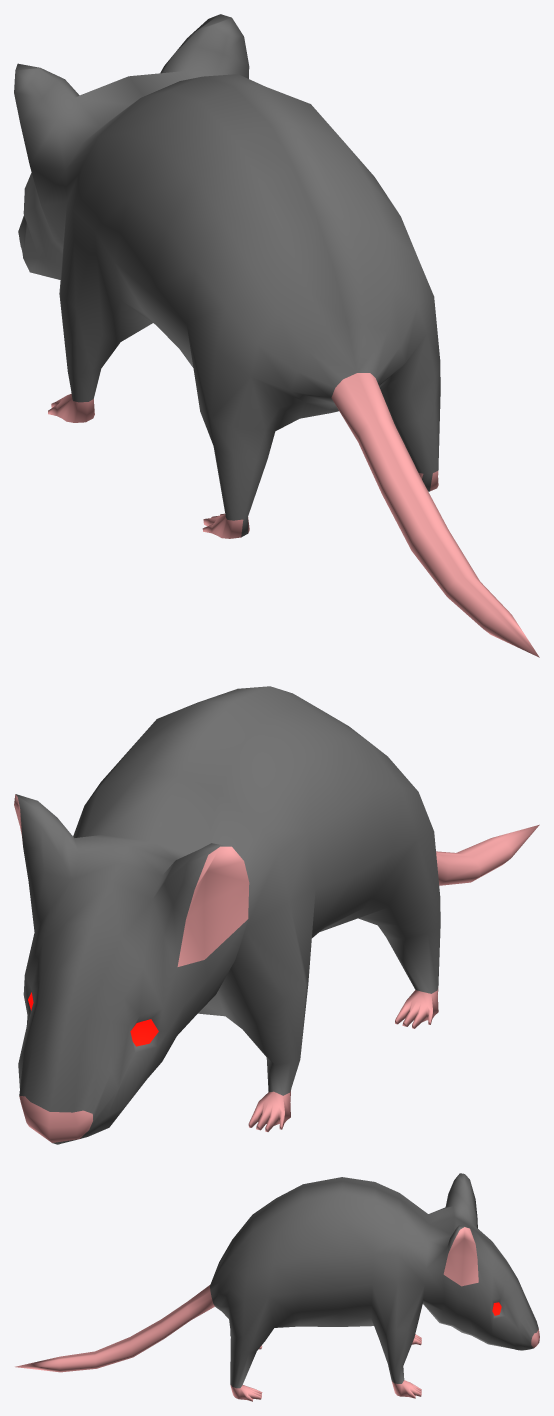
Rendered from RAT.glb.
3 renders of one model, top to bottom at view 1: azimuth 30°, elevation 25°; view 2: azimuth 150°, elevation 25°; view 3: azimuth 270°, elevation 25°, orthographic. The views are drawn at different scales.
Parts seen in each view (by area): view 1: Rat2; view 2: Rat2; view 3: Rat2.
Boxes of the visible parts, box(x1,y1,x2,y2) form: Rat2: box(14, 14, 539, 657); Rat2: box(14, 686, 539, 1144); Rat2: box(15, 1173, 539, 1401).
Size of the model in its own units: 2.4 by 3.33 by 8.32.
Materials: 2 (1 with a texture image).
